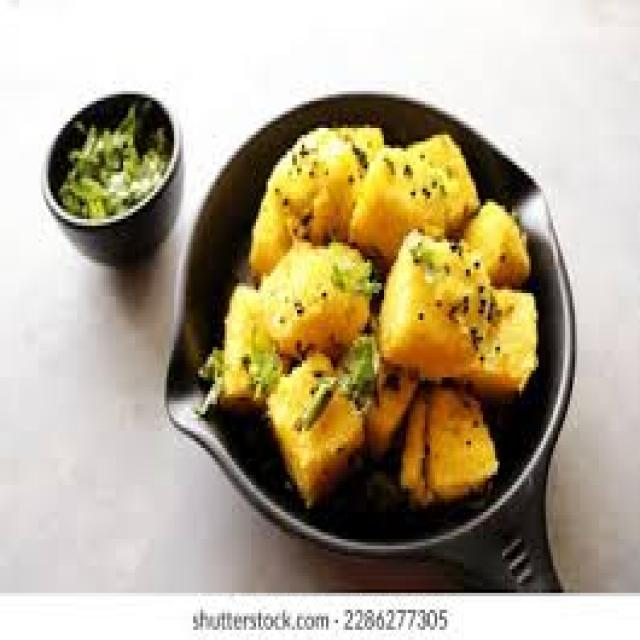ROTI: (382, 232, 531, 391), (270, 354, 362, 502), (263, 243, 377, 357), (266, 128, 360, 239), (350, 165, 437, 259), (222, 283, 280, 404), (427, 394, 495, 495)
